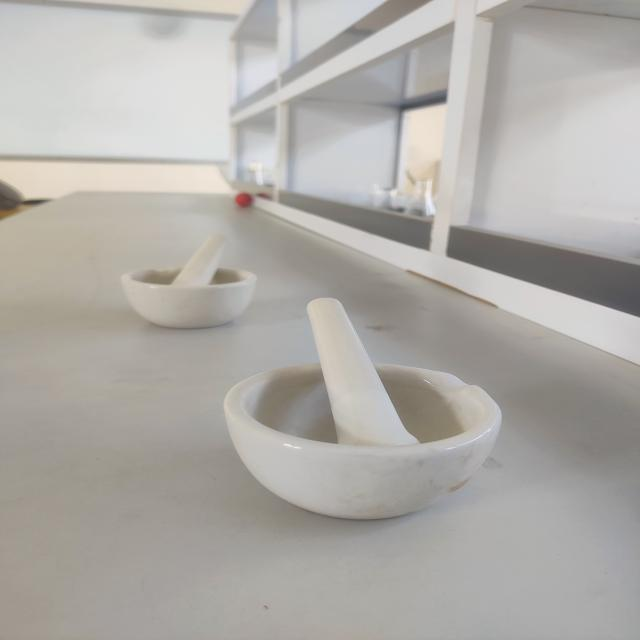Porcelain_Mortar Pestle: (208, 286, 521, 548), (107, 218, 273, 339)
